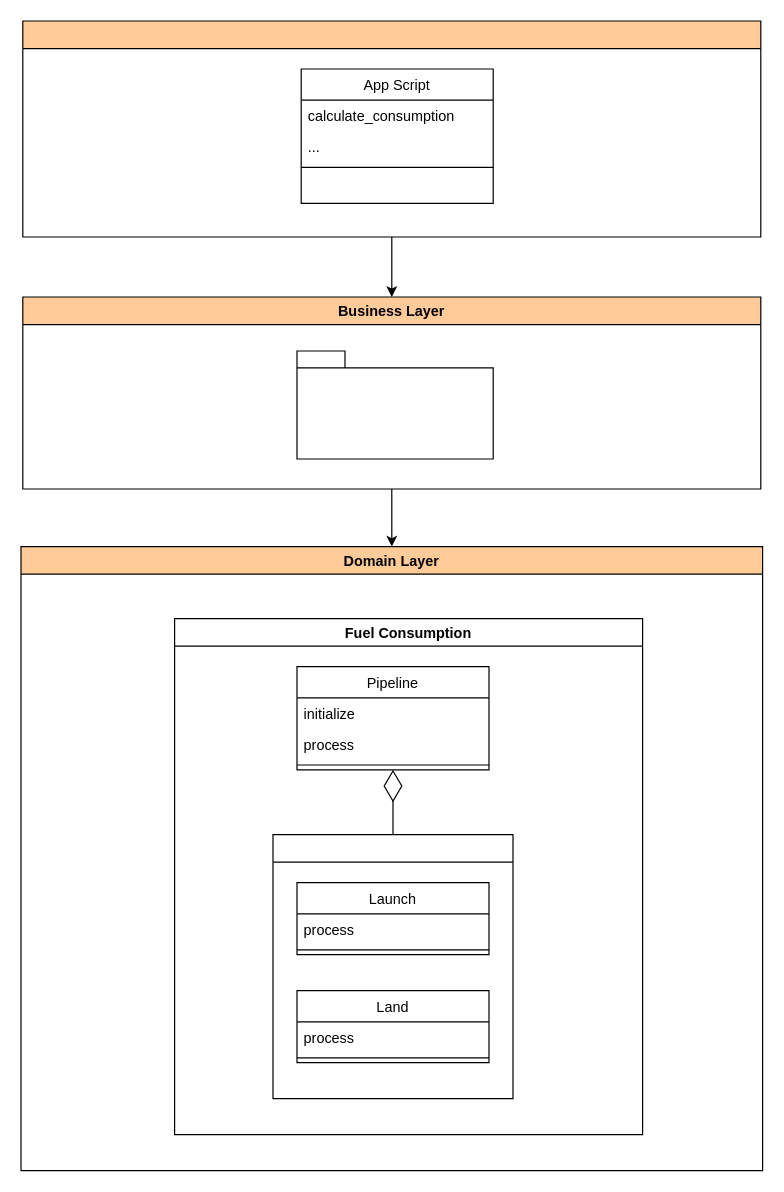
Some shapes in this 784 by 1192 pixel diagram are drawn without their labels. The box of each missing label's shape, as (x1, y1, x2, y2) in pixels:
Directives: (272, 833, 513, 1099)
Presentation Layer: (22, 20, 761, 237)
Services: (296, 350, 493, 459)
